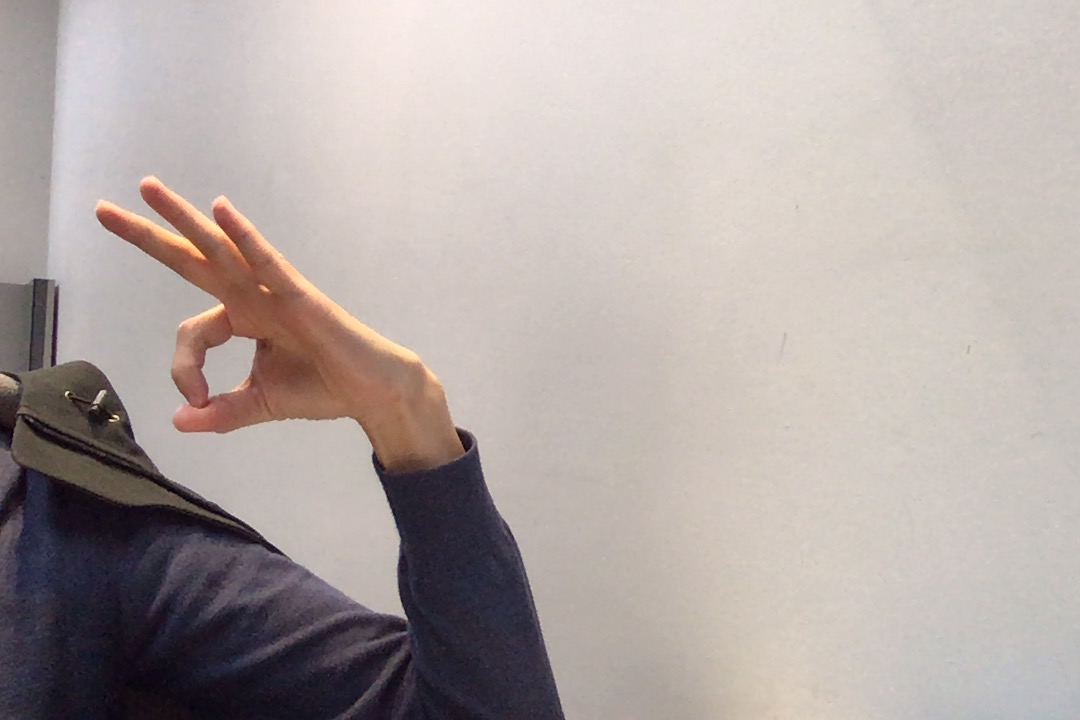oksign: (76, 167, 371, 442)
